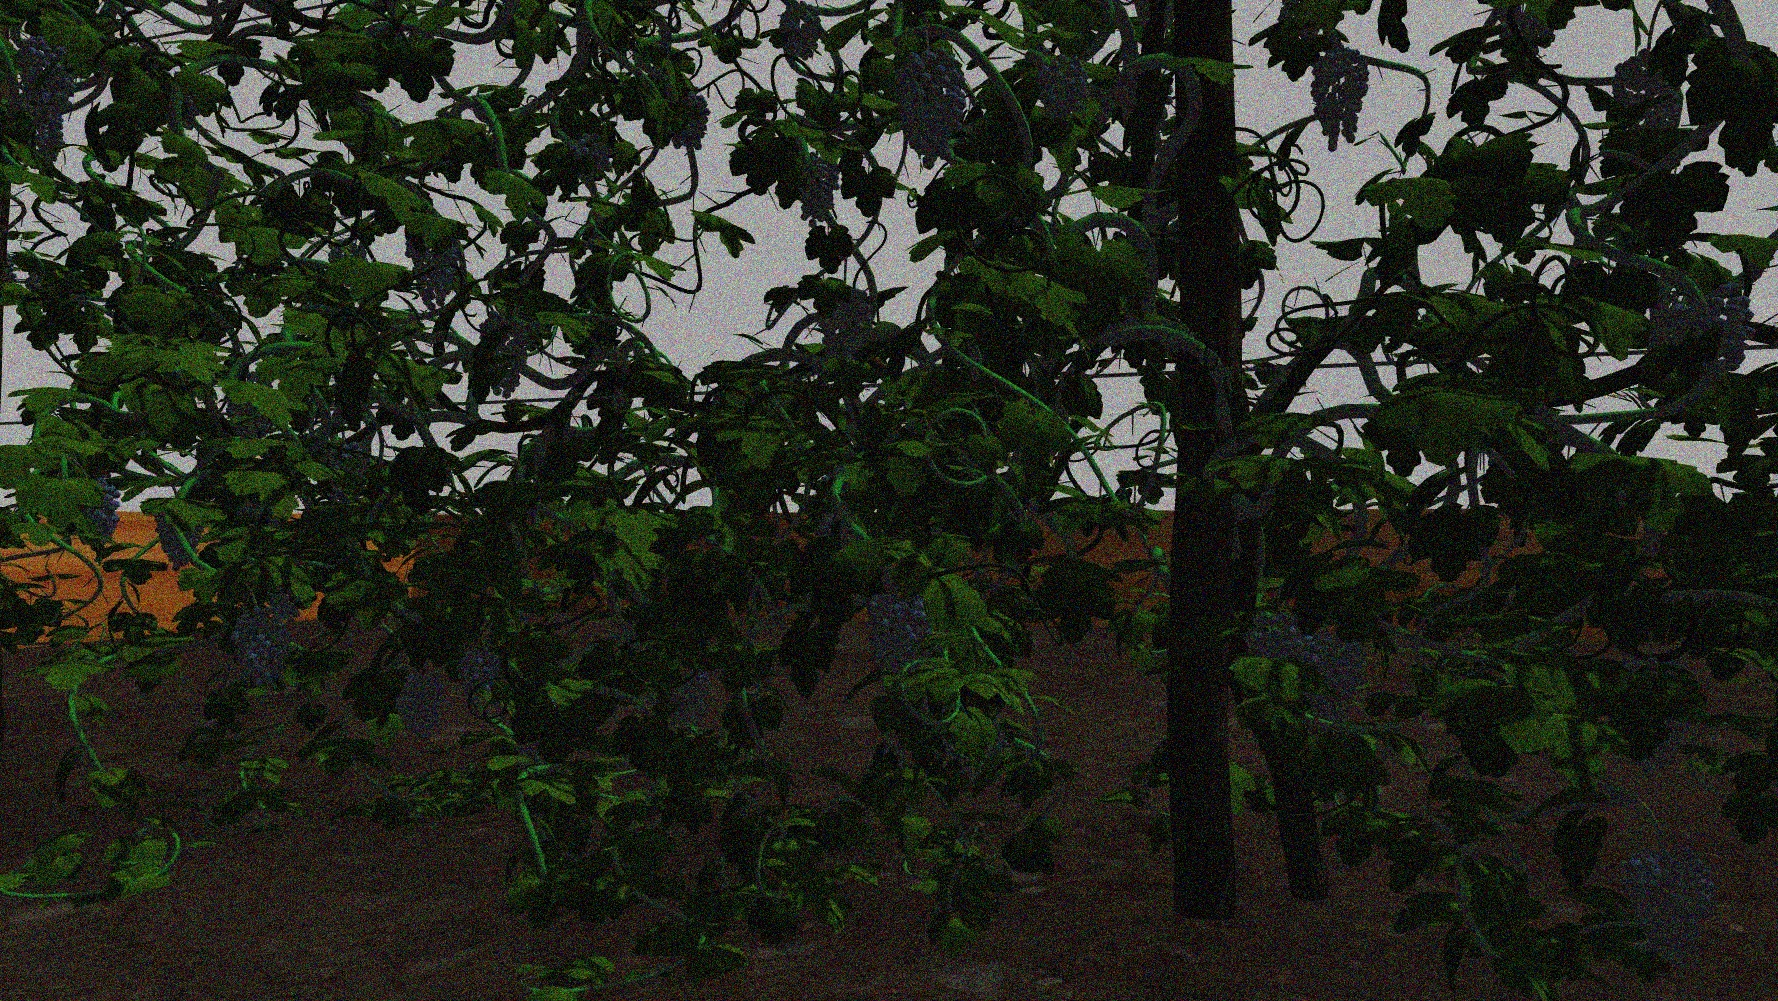grape: (1644, 266, 1758, 408), (1616, 848, 1718, 972), (893, 42, 970, 172), (1308, 46, 1373, 156), (1611, 42, 1685, 132), (1307, 634, 1366, 736), (863, 592, 929, 678), (230, 609, 291, 695), (408, 219, 462, 311), (815, 282, 869, 367), (476, 311, 526, 396), (1034, 54, 1090, 125), (390, 676, 446, 746), (18, 38, 74, 107), (76, 479, 122, 554), (154, 505, 204, 574), (1244, 612, 1304, 668), (796, 153, 844, 222), (664, 671, 713, 731), (454, 641, 501, 702), (775, 1, 821, 62), (33, 106, 70, 162), (568, 133, 614, 175)
